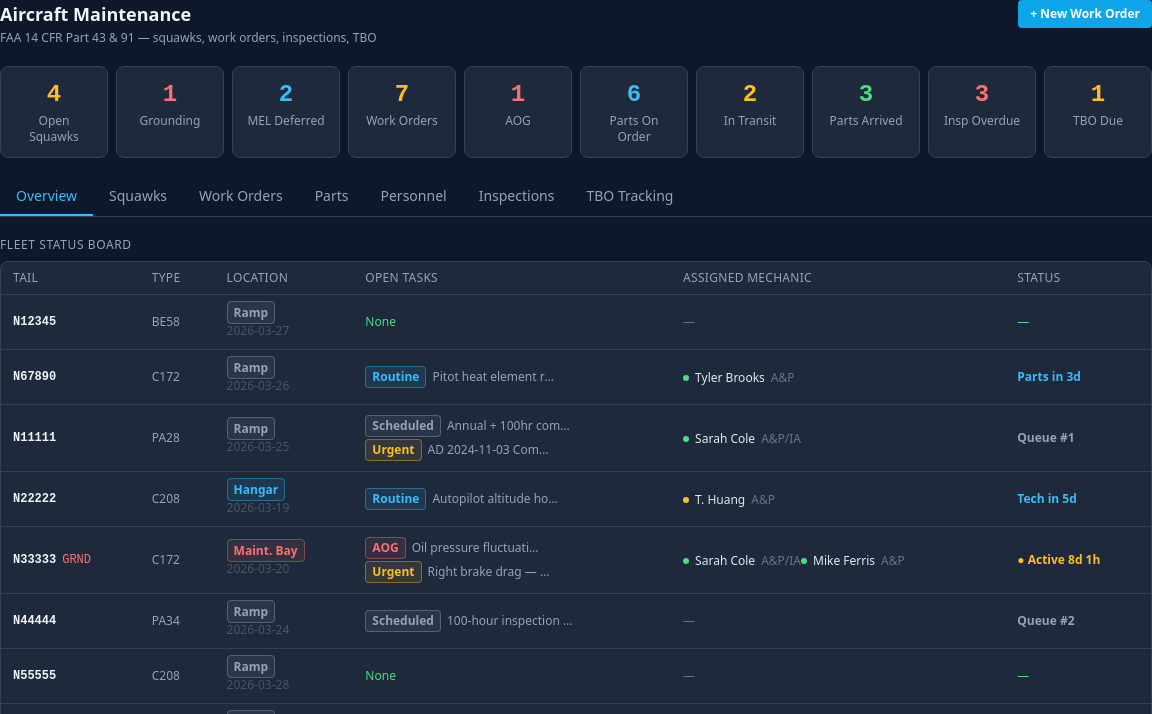
<Maintenance /> tab navigation › switches to TBO Tracking tab
The width and height of the screenshot is (1152, 714).
Step 1. Click the tab "TBO Tracking" → click(630, 197), box [570,178,690,216]
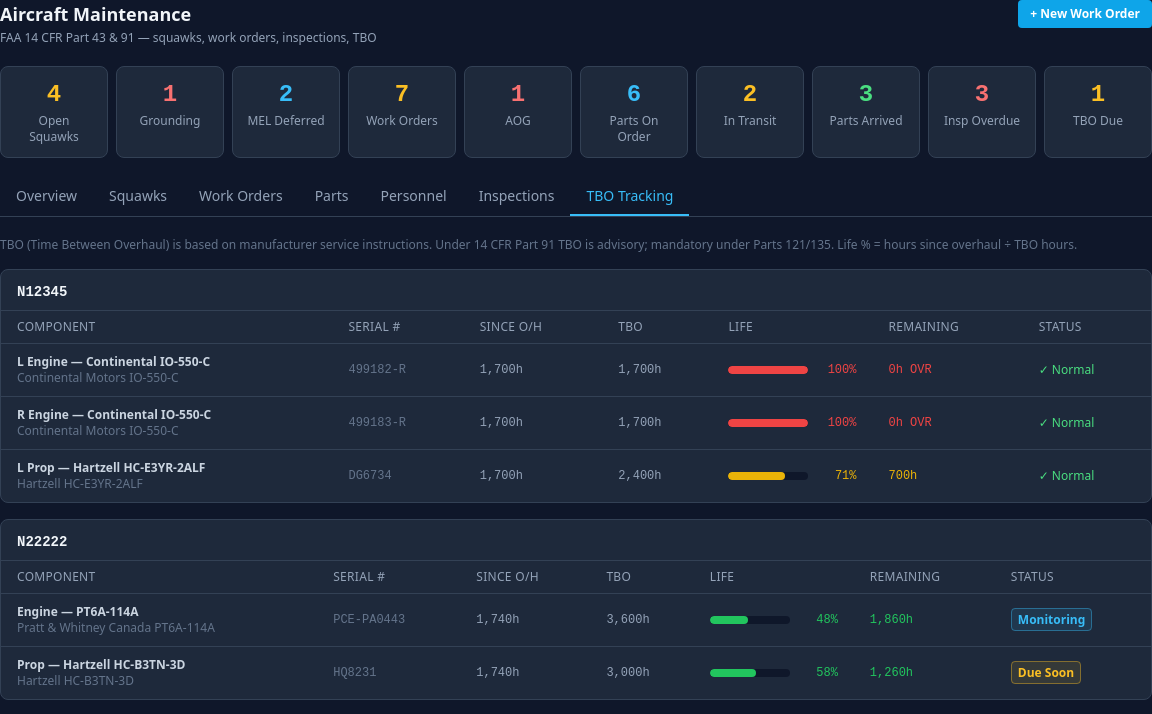
Expected: the text "Time Between Overhaul" is shown, [0,236,1077,253]
